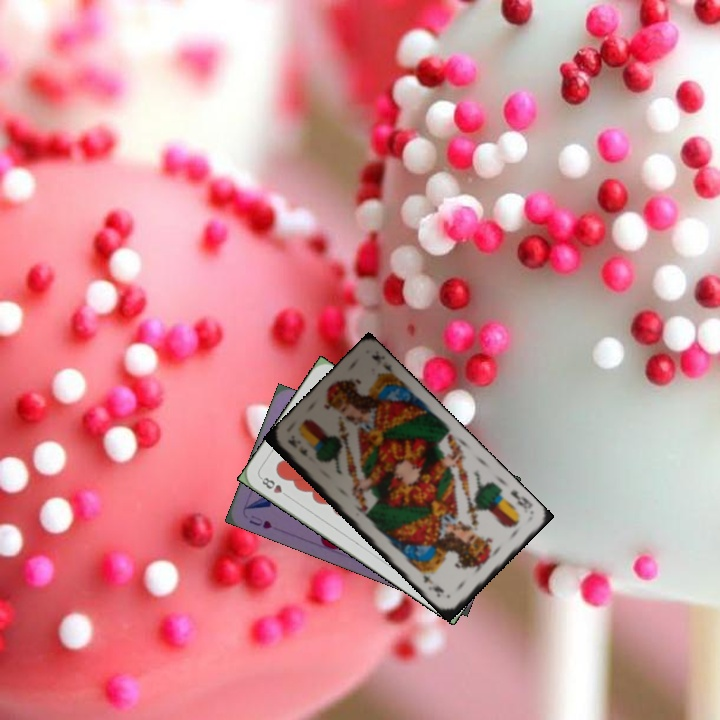EK: (506, 486, 535, 512), (283, 433, 310, 459)
H8: (256, 473, 293, 500)
HU: (245, 511, 274, 532)
